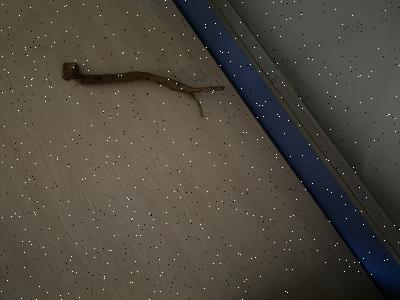Root: (62, 62, 225, 117)
